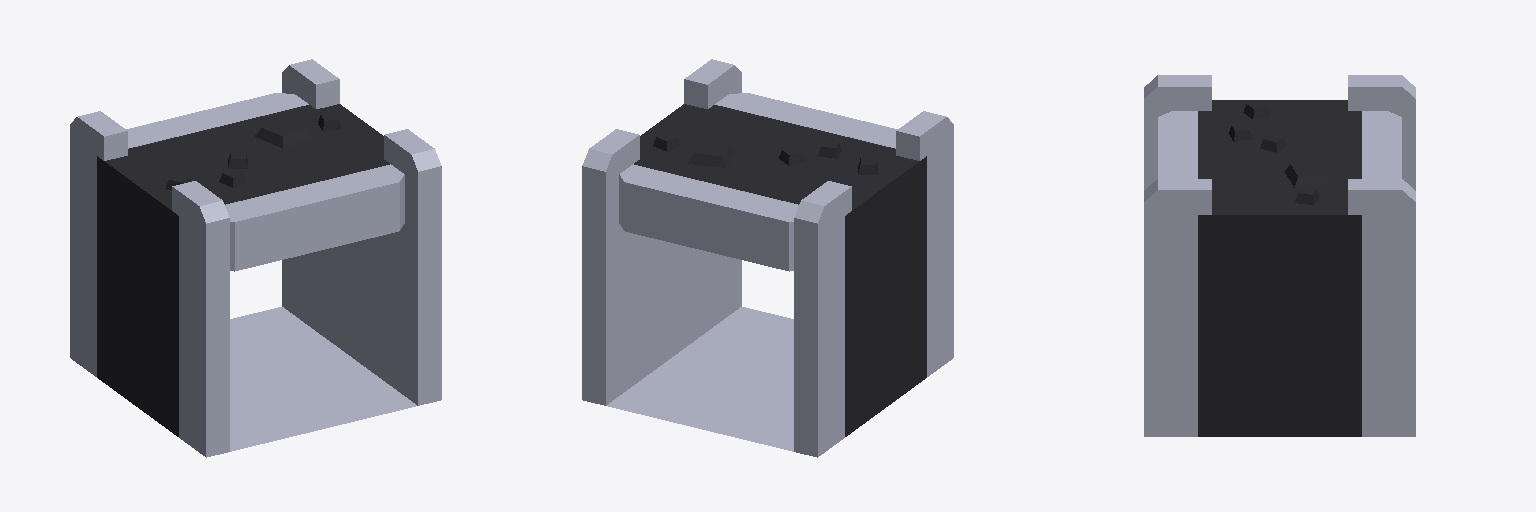
Rendered from wall-opening.obj.
3 views of the same model, side by side, from view 1: azimuth 30°, elevation 25°; view 2: azimuth 150°, elevation 25°; view 3: azimuth 270°, elevation 25° (orthographic).
Visible parts, largest first — view 1: wall-opening; view 2: wall-opening; view 3: wall-opening.
Part boxes in pixels (bbox=[...]): wall-opening: bbox=[70, 59, 441, 457]; wall-opening: bbox=[582, 59, 953, 457]; wall-opening: bbox=[1144, 75, 1415, 436].
Bounding box in the file's own units: 1 × 1 × 1.